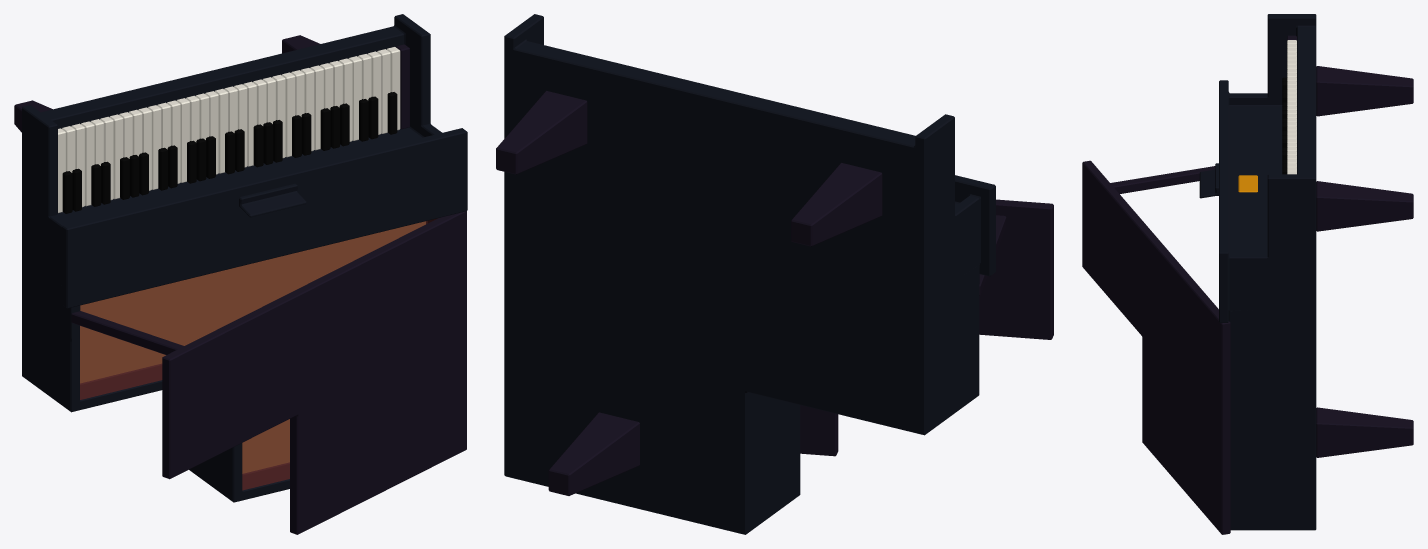
Rendered from Piano.fbx.
3 renders of one model, left to right at view 1: azimuth 30°, elevation 25°; view 2: azimuth 150°, elevation 25°; view 3: azimuth 270°, elevation 25°, orthographic. The views are drawn at different scales.
Visible parts, largest first — view 1: Piano_Cube.013; view 2: Piano_Cube.013; view 3: Piano_Cube.013.
Boxes of the visible parts, x1,y1,x2,y2 form: Piano_Cube.013: [14, 14, 467, 534]; Piano_Cube.013: [496, 14, 1053, 534]; Piano_Cube.013: [1082, 14, 1413, 534].
Size of the model in its own units: 421 by 400 by 340.
